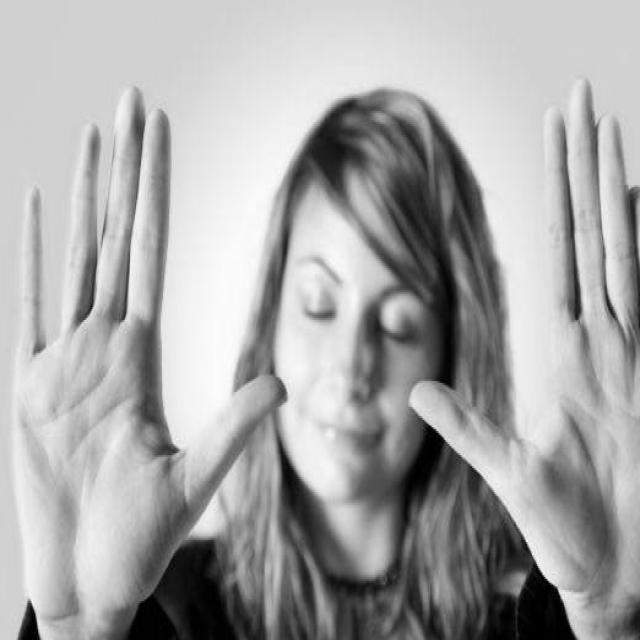stop: (6, 78, 291, 636), (406, 70, 640, 625)
